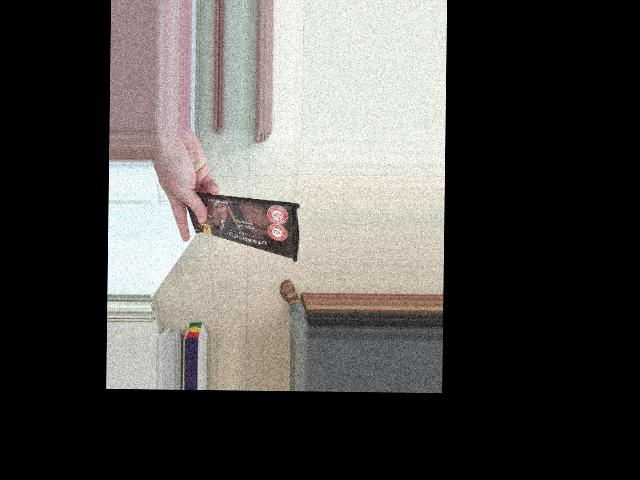chocolate: (176, 186, 304, 264)
